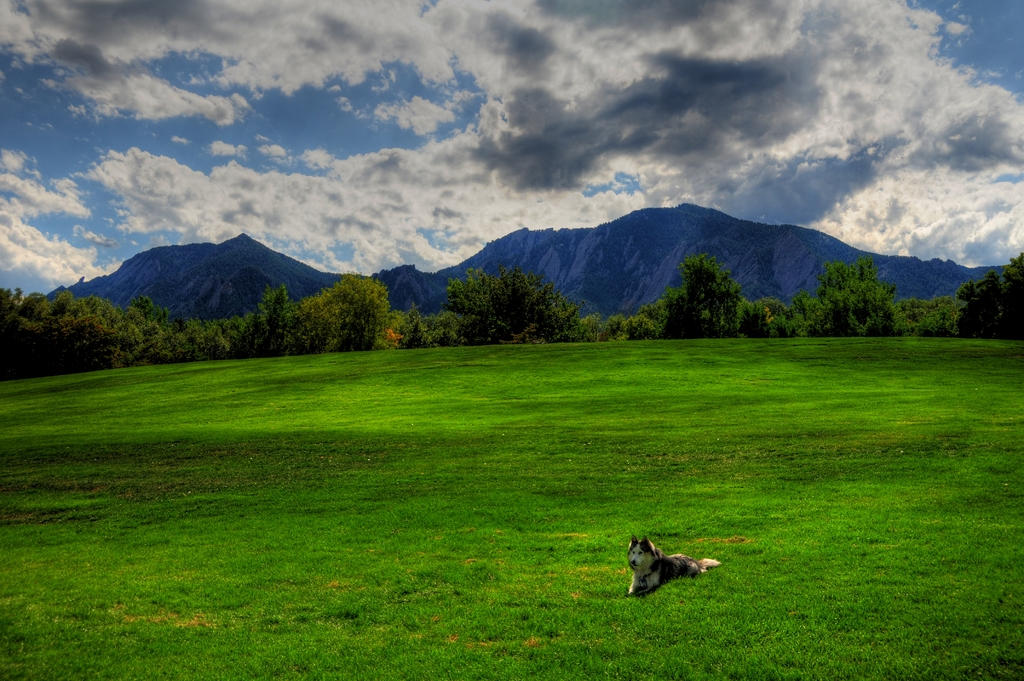Tree: (0, 279, 209, 383), (794, 245, 914, 339), (912, 250, 1023, 336), (445, 264, 572, 337), (670, 253, 758, 346), (311, 256, 393, 350), (229, 287, 298, 358)
